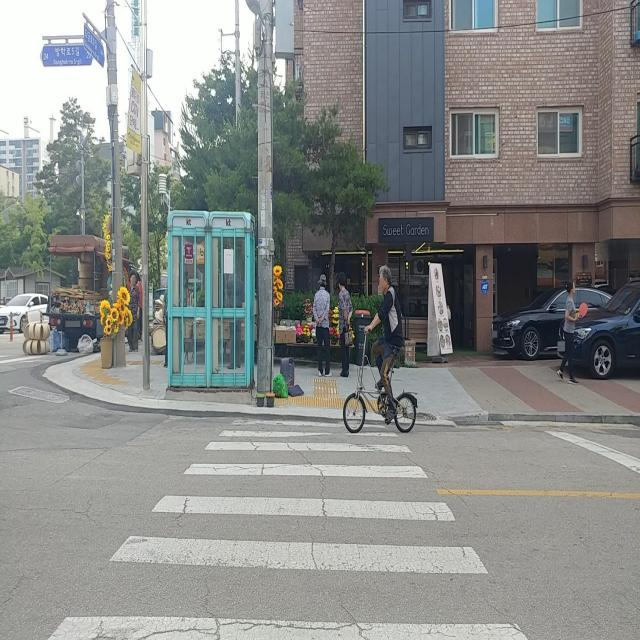횡단보도: (48, 416, 528, 639)
